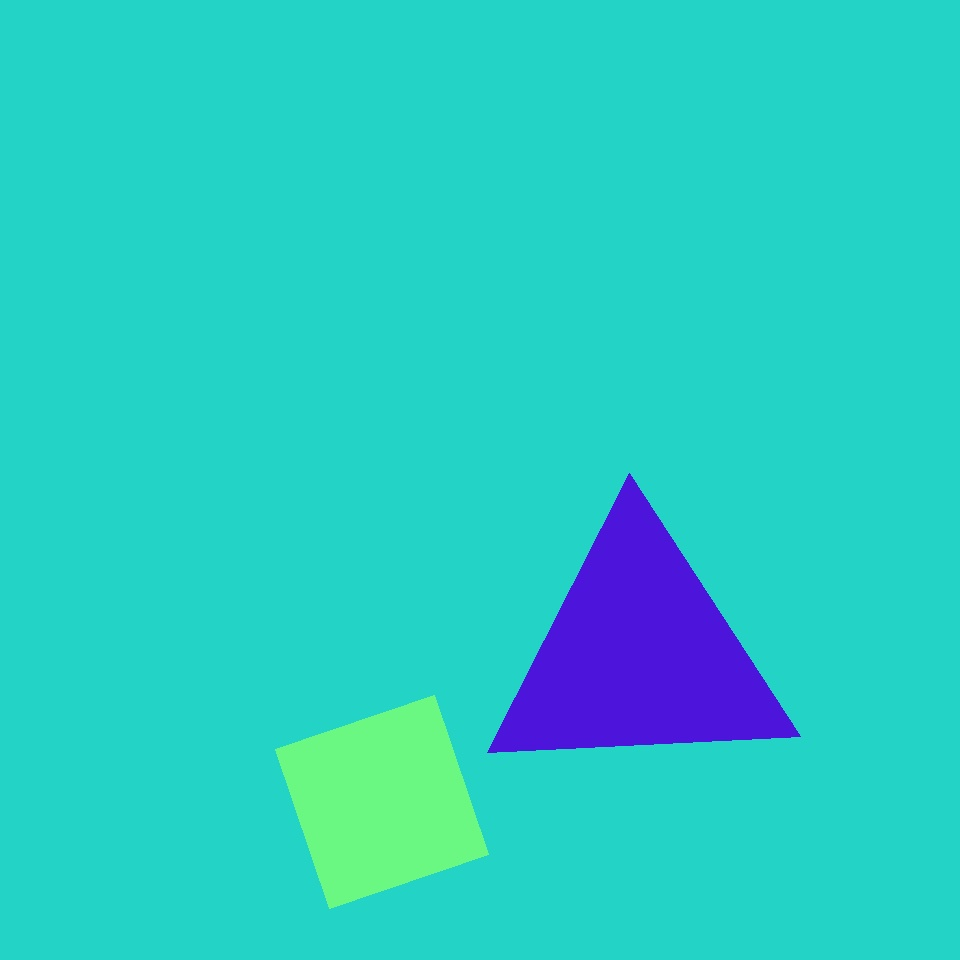circle: (483, 514, 796, 794)
square: (276, 696, 488, 908), (241, 59, 396, 214), (621, 201, 723, 302)
